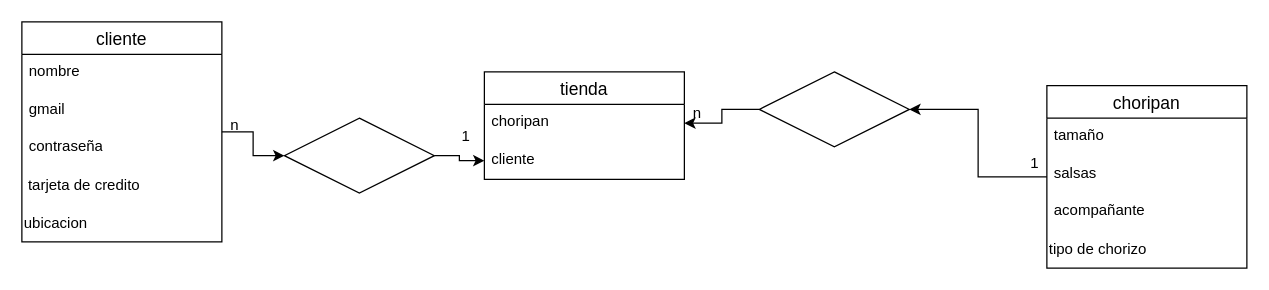
The diagram is 1269 pixels wide and 290 high, and some of its shapes have lost their labels. Here are the shapes that lost their labels. From the top down, the centre of each, then its label:
pixel 833 109: preparar
pixel 358 155: pedir
